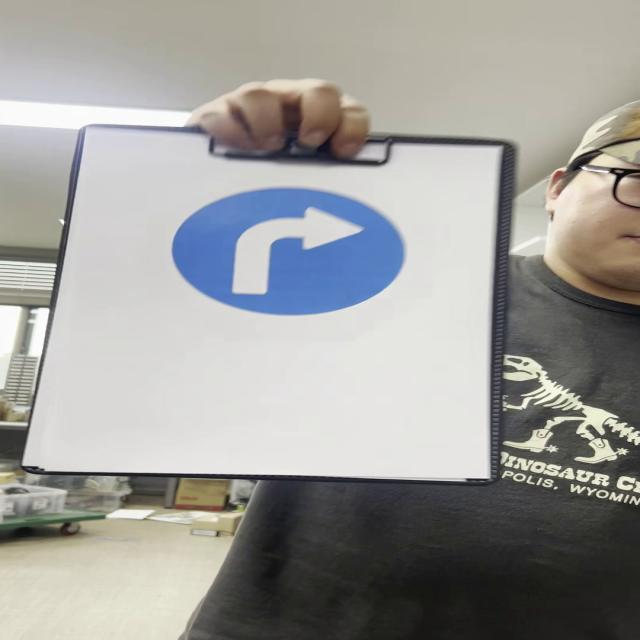right: (172, 187, 406, 318)
